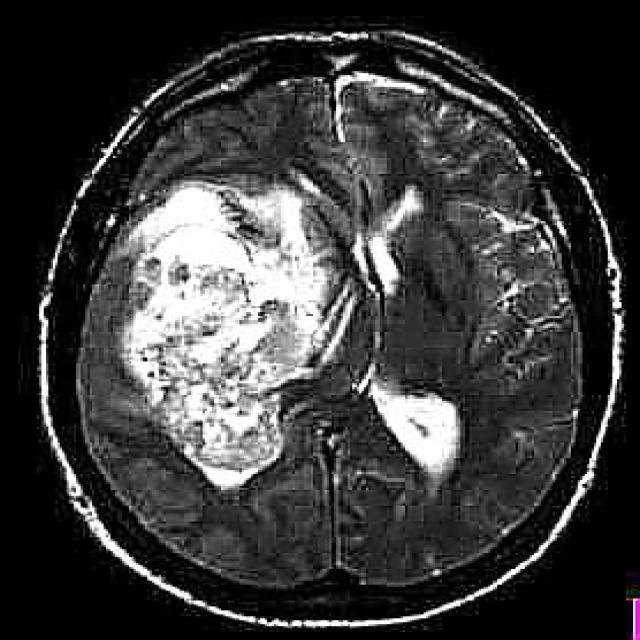Tumor-Cell: (118, 176, 325, 439)
